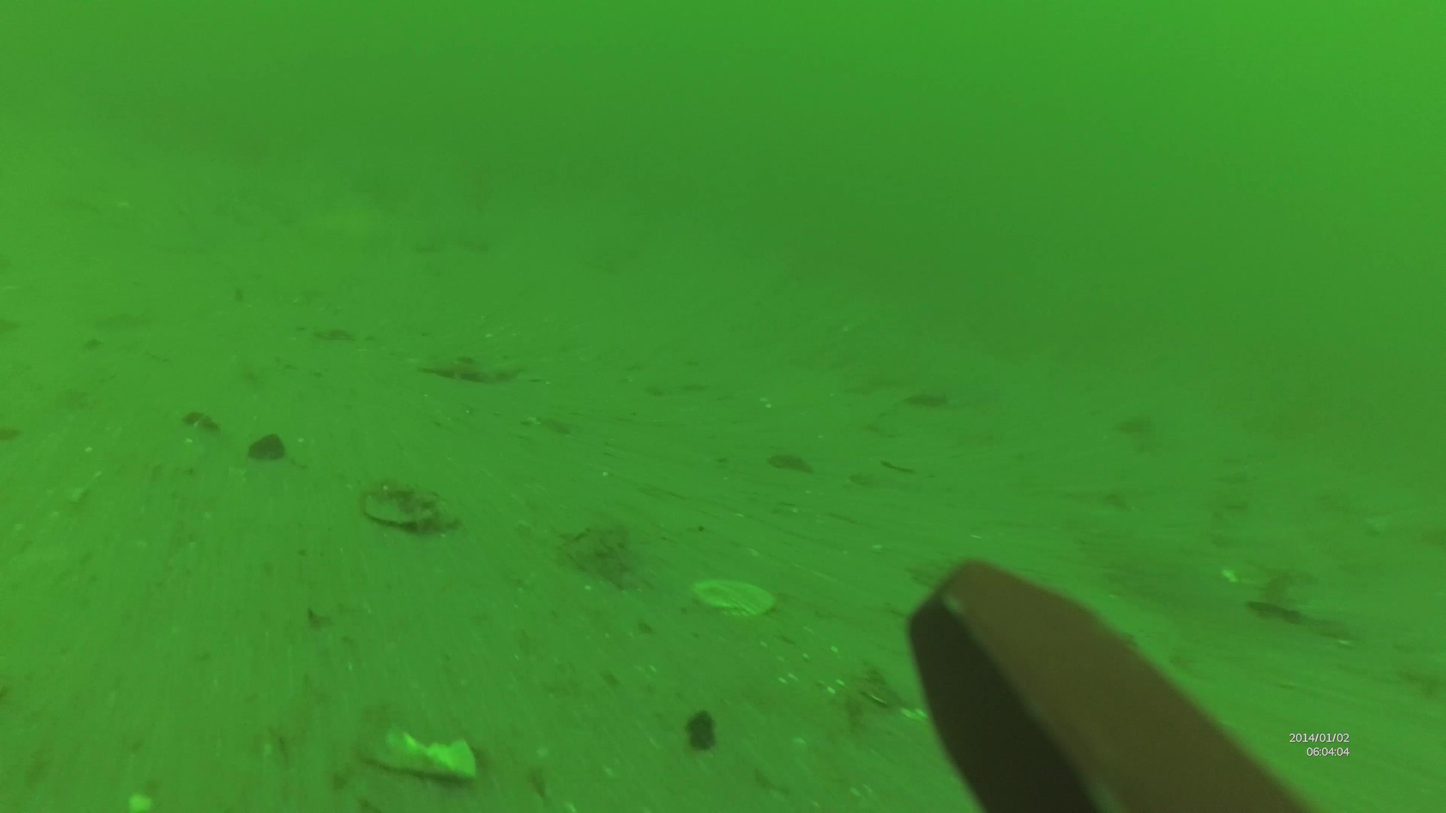scallop: (689, 573, 776, 623)
